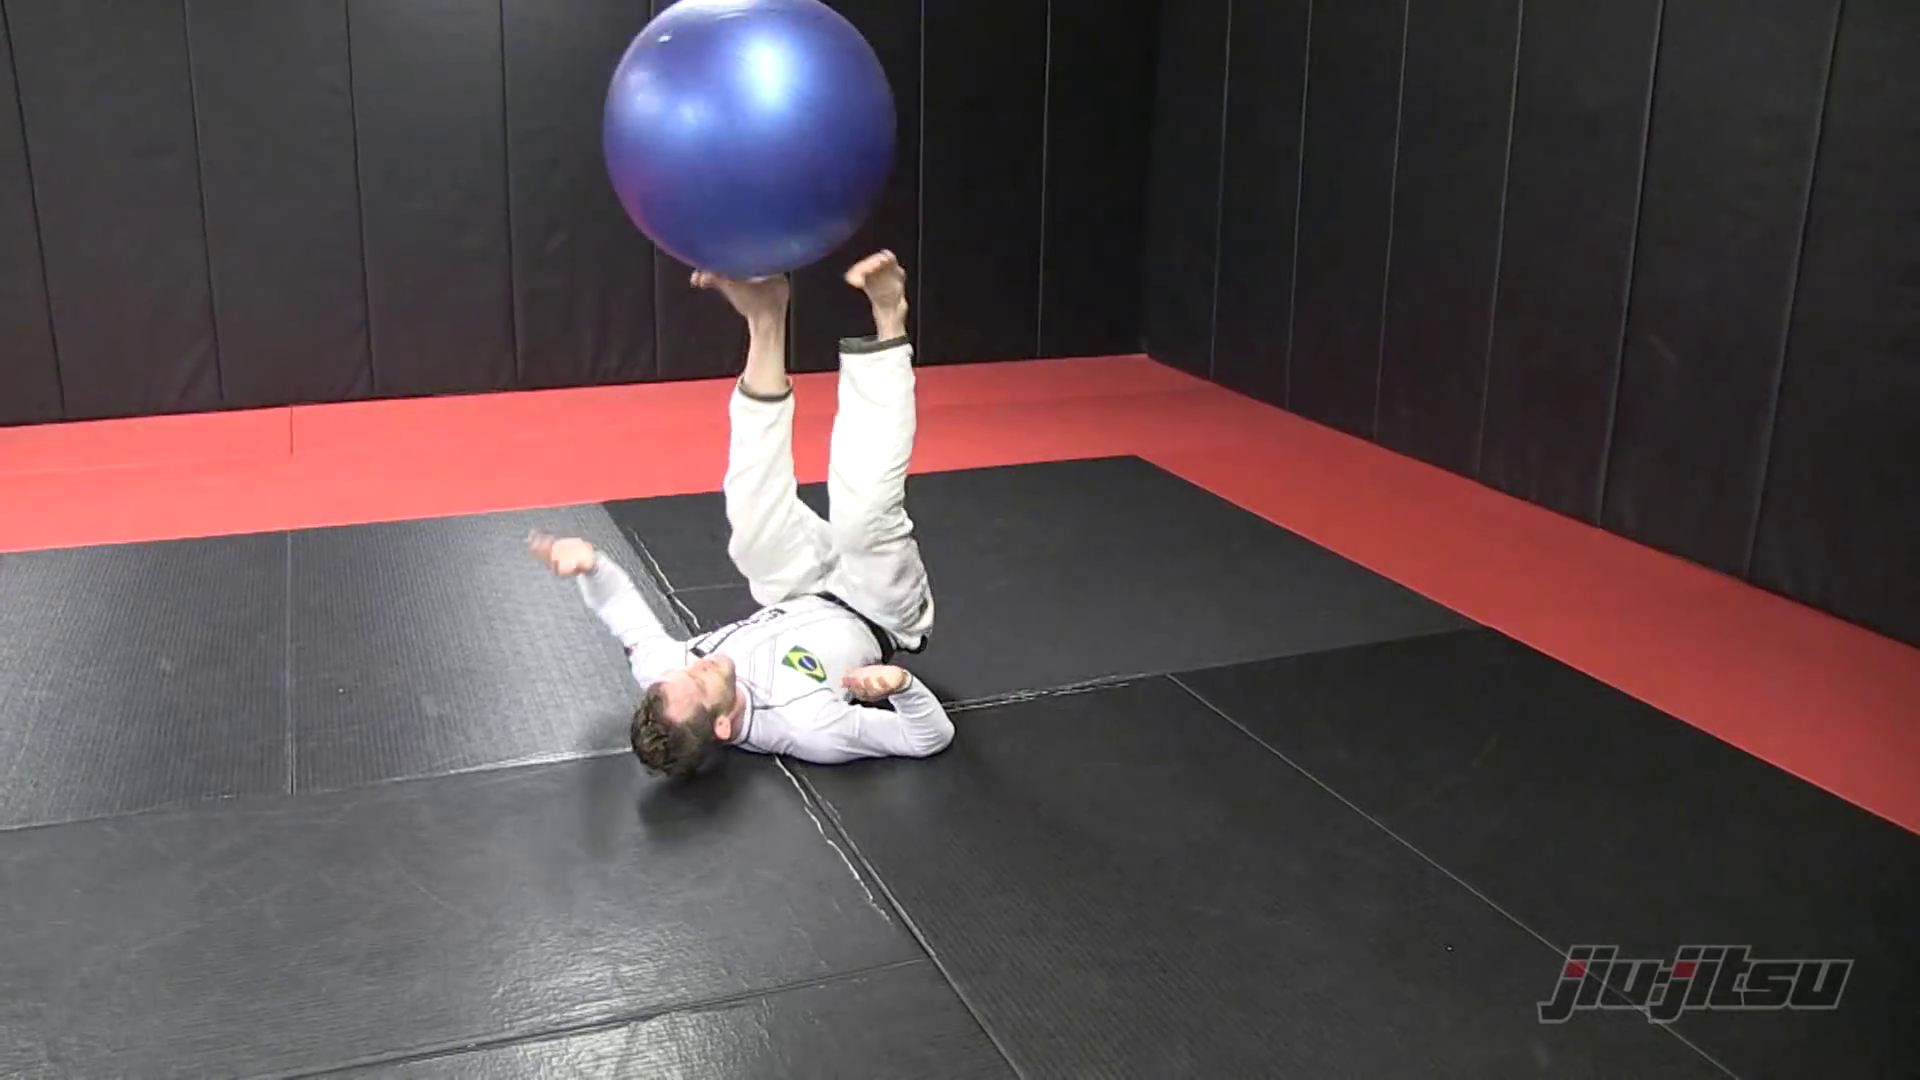yogaball: (570, 3, 924, 284)
